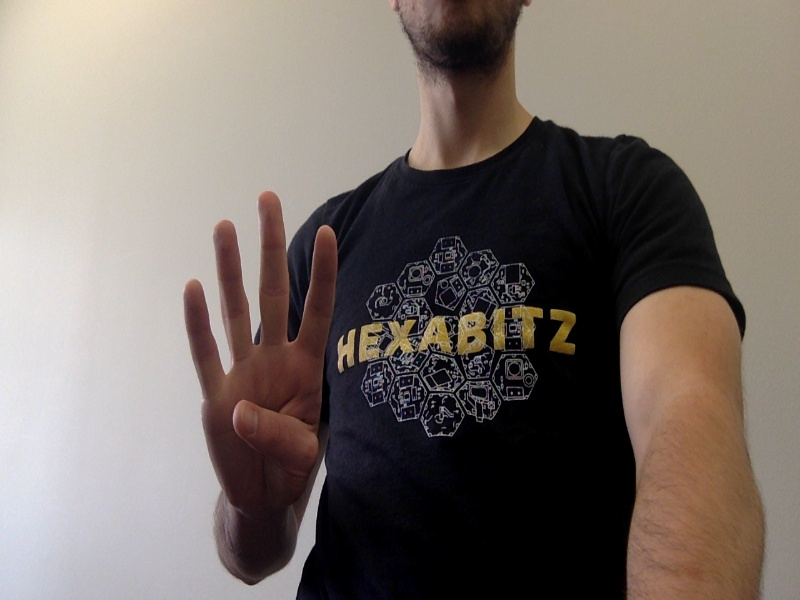4-hand: (182, 193, 335, 514)
